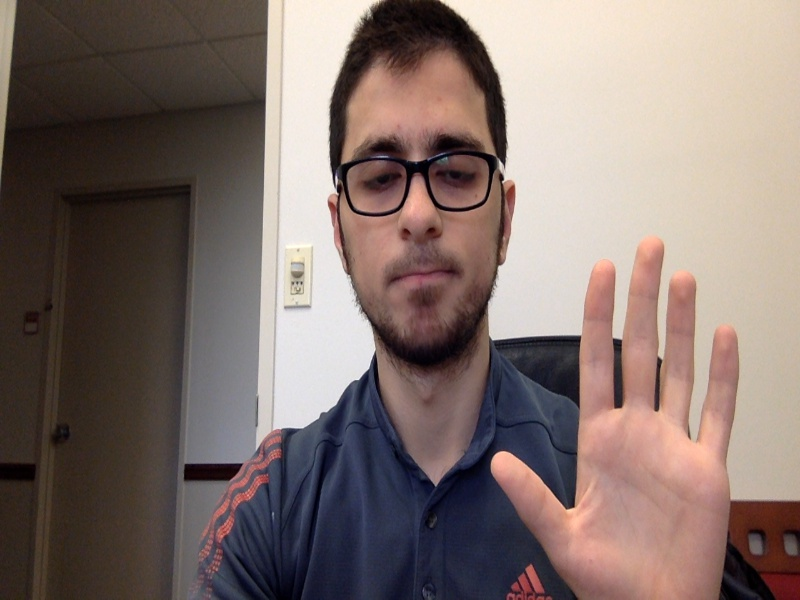5-hand: (490, 239, 740, 600)
